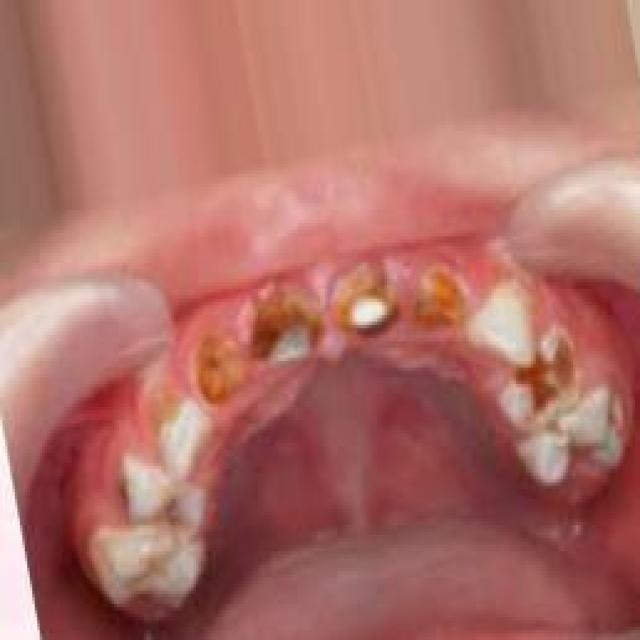caries: (500, 327, 589, 429), (248, 278, 324, 377), (330, 252, 402, 346), (401, 250, 467, 342), (186, 324, 256, 410), (146, 384, 208, 471)
